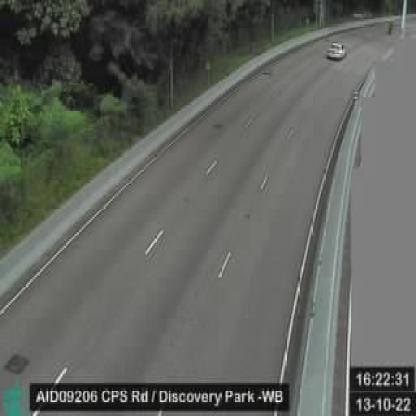Car: (327, 39, 347, 58)
